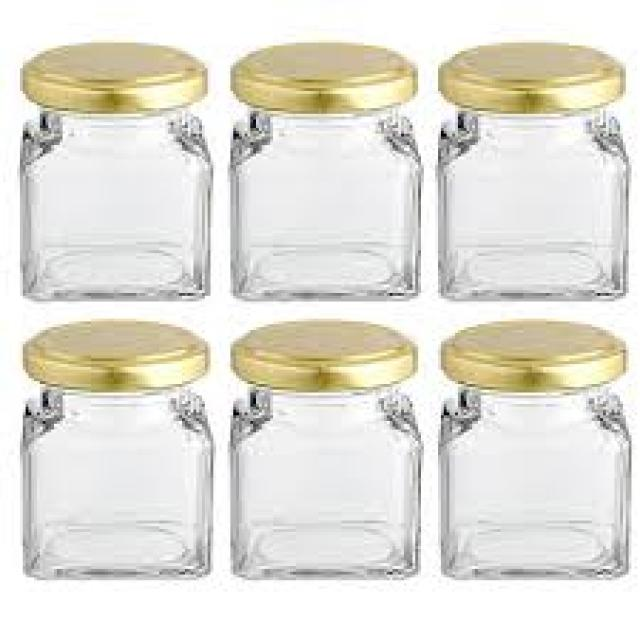glass: (228, 381, 421, 578), (435, 381, 626, 575), (435, 105, 626, 296), (20, 381, 208, 575), (20, 105, 210, 296), (228, 108, 418, 296)
metal: (438, 319, 620, 390), (228, 321, 410, 390), (14, 40, 205, 105), (435, 43, 623, 108), (17, 319, 205, 384), (228, 43, 415, 108)
